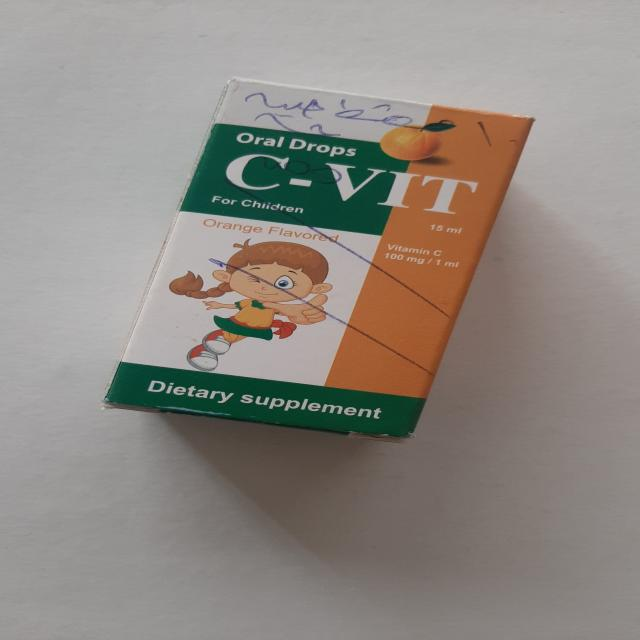C-VIT: (91, 71, 578, 458)
